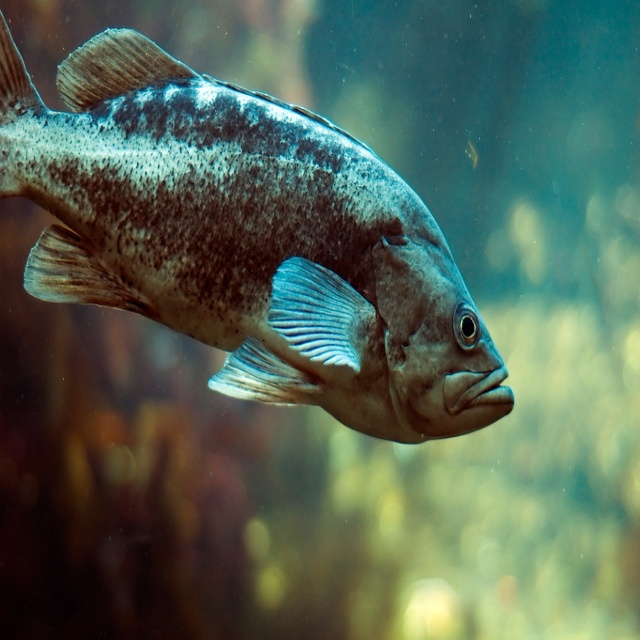Fish: (0, 11, 514, 450)
